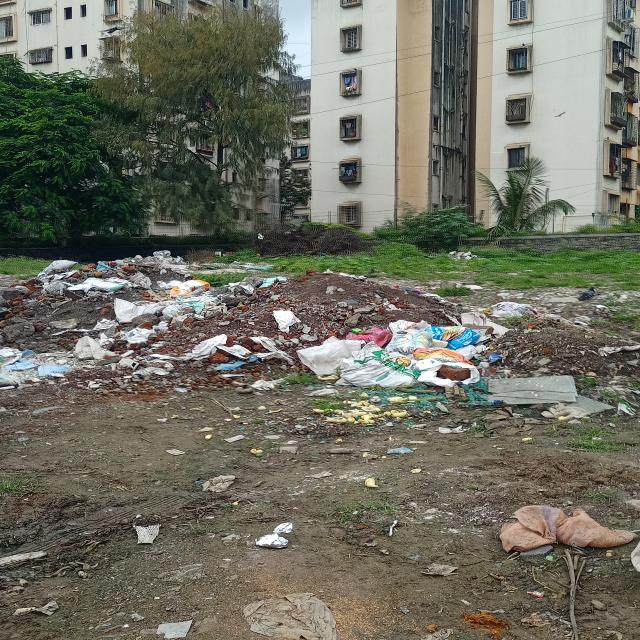garbage: (313, 274, 640, 422), (0, 255, 305, 404)
